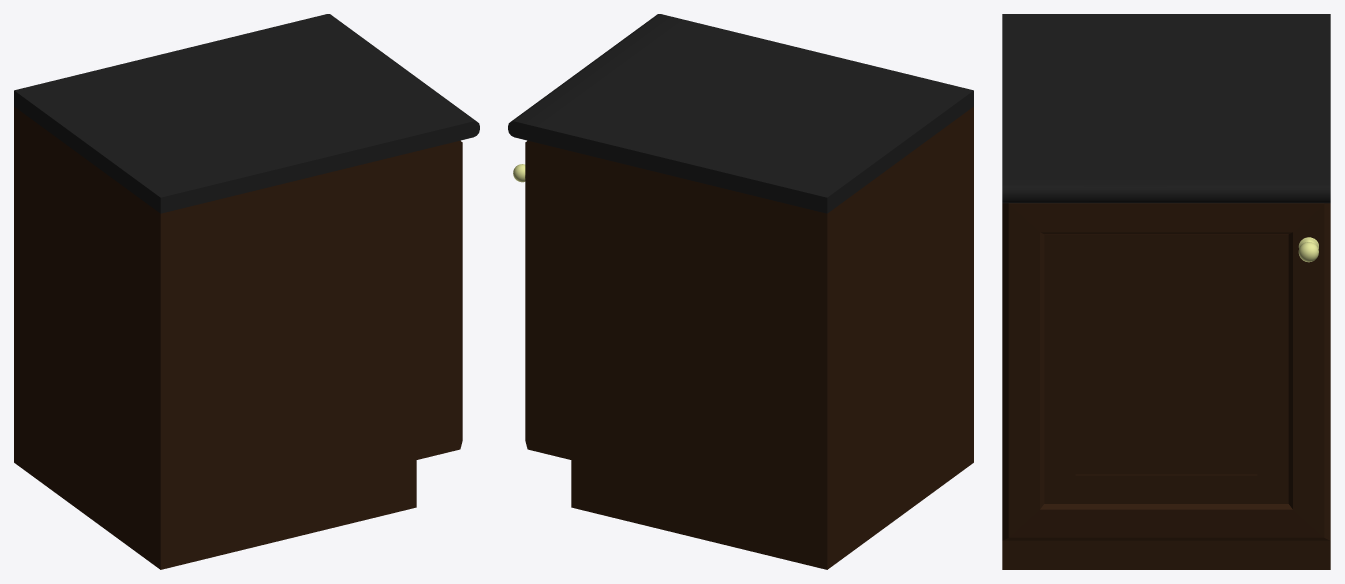
File: Cabinet.fbx
3 views of the same model, side by side, from view 1: azimuth 30°, elevation 25°; view 2: azimuth 150°, elevation 25°; view 3: azimuth 270°, elevation 25° (orthographic). The views are drawn at different scales.
Visible parts, largest first — view 1: Cabinet.003, Door_Left; view 2: Cabinet.003, Door_Left; view 3: Door_Left, Cabinet.003.
Boxes of the visible parts, x1,y1,x2,y2 form: Cabinet.003: [14, 14, 479, 569]; Door_Left: [450, 140, 462, 451]; Cabinet.003: [508, 14, 973, 569]; Door_Left: [513, 140, 537, 451]; Door_Left: [1002, 203, 1330, 540]; Cabinet.003: [1002, 14, 1330, 569].
Bounding box in the file's own units: 63.51 × 70 × 50.
